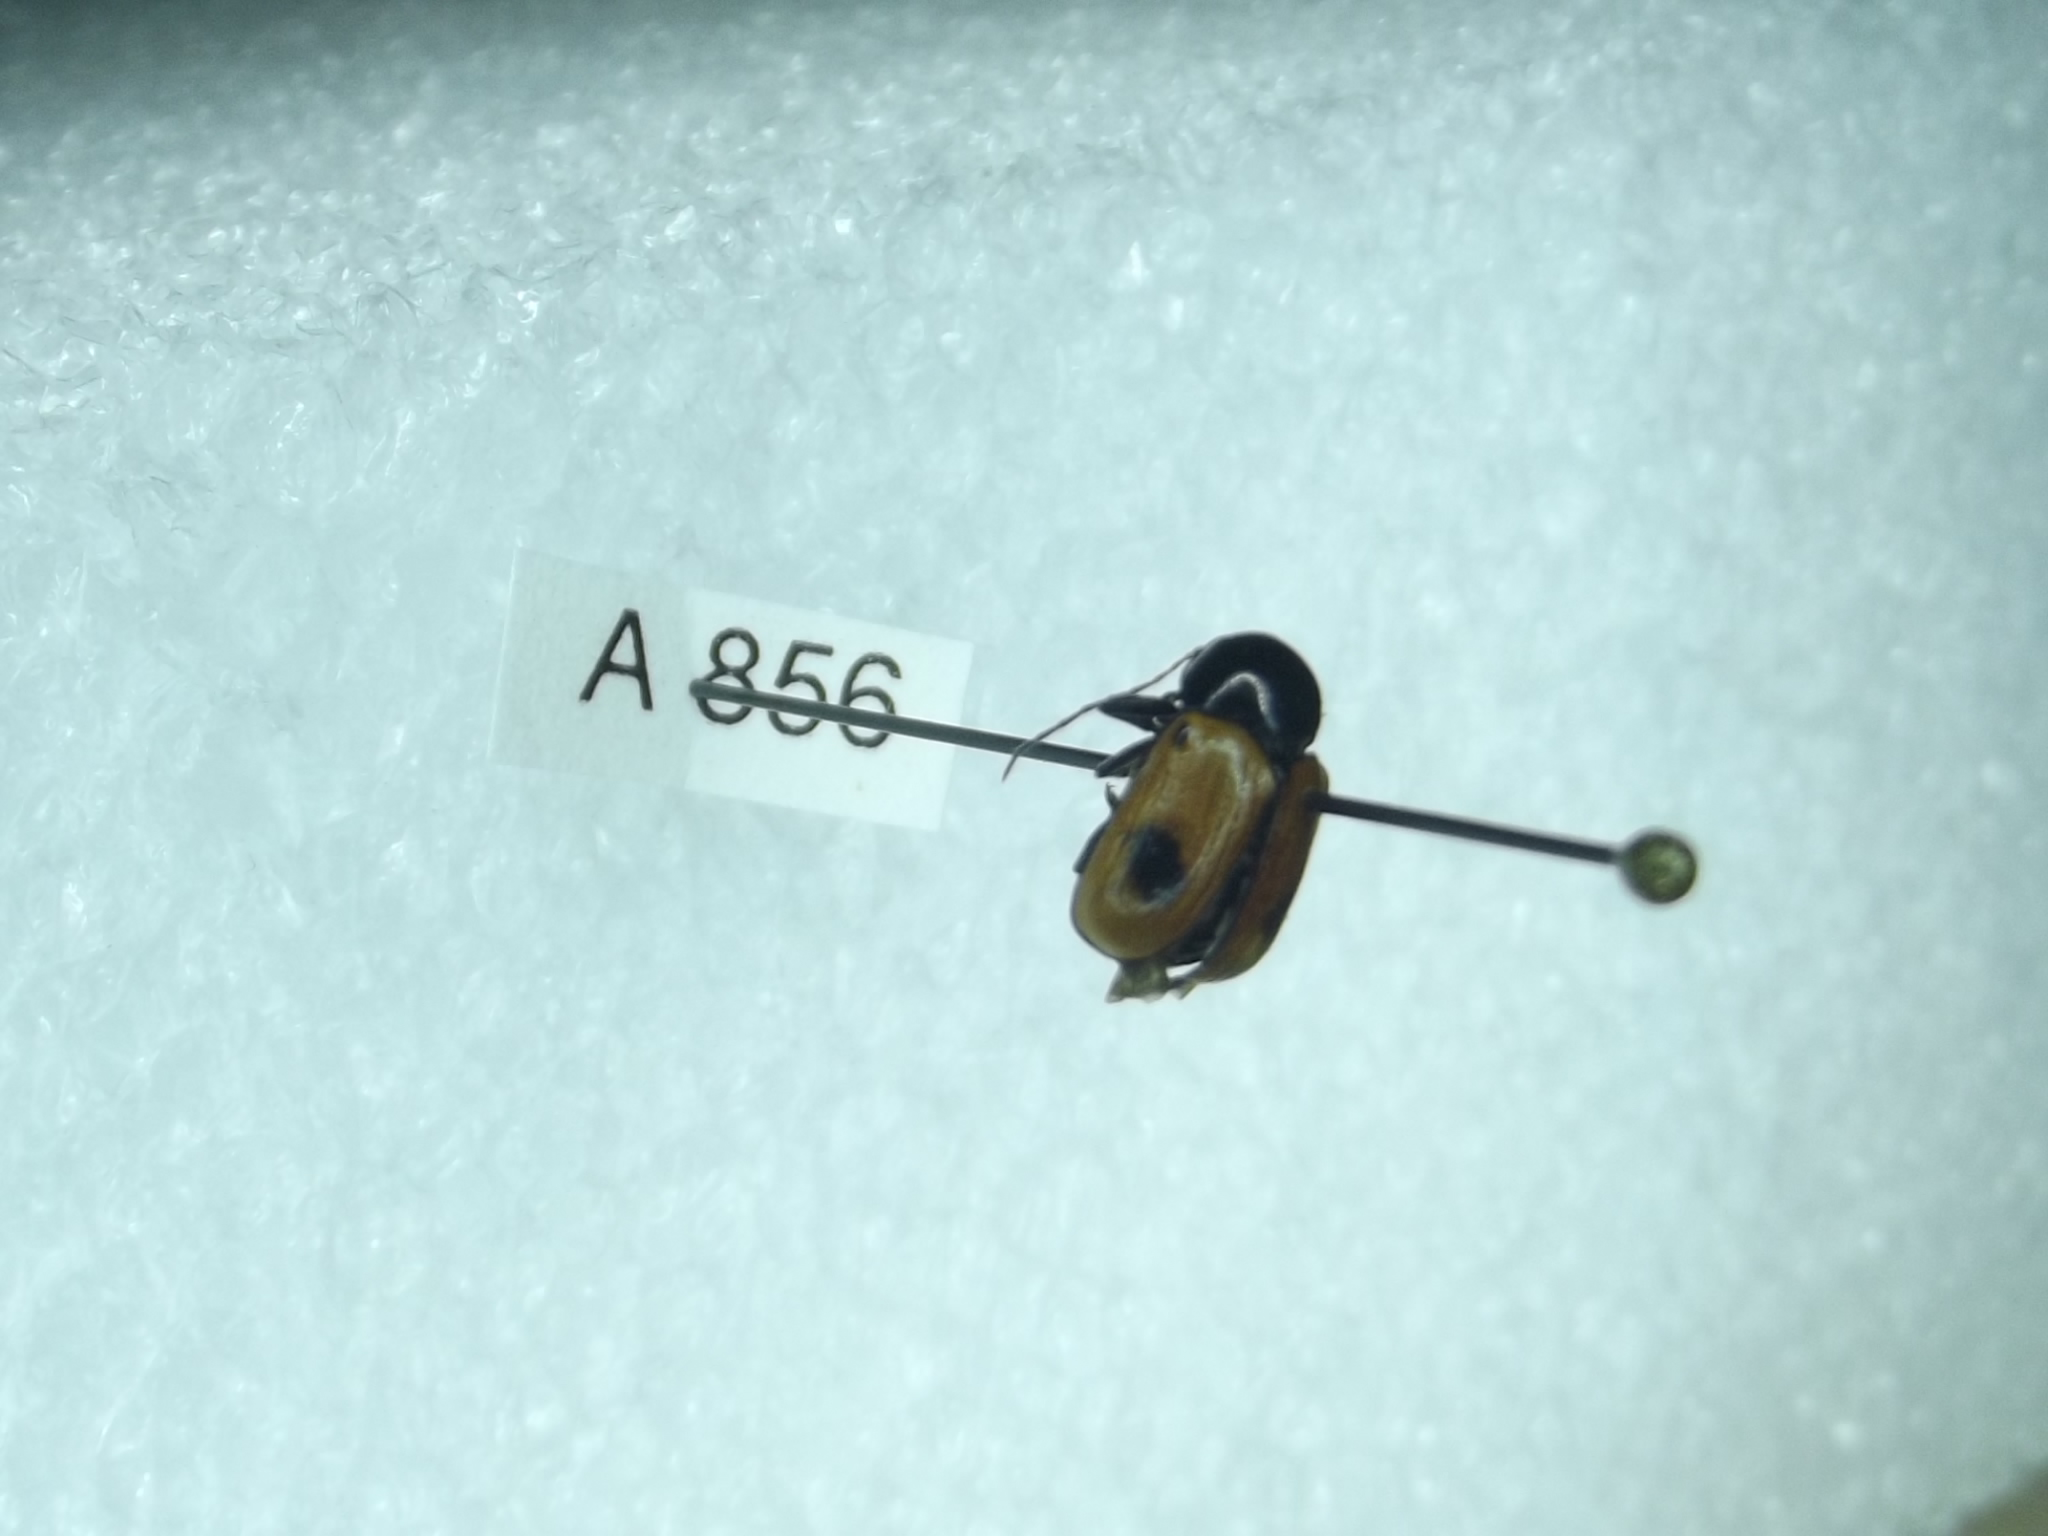Cryptocephalus_bipunctatus: (980, 624, 1335, 1026)
